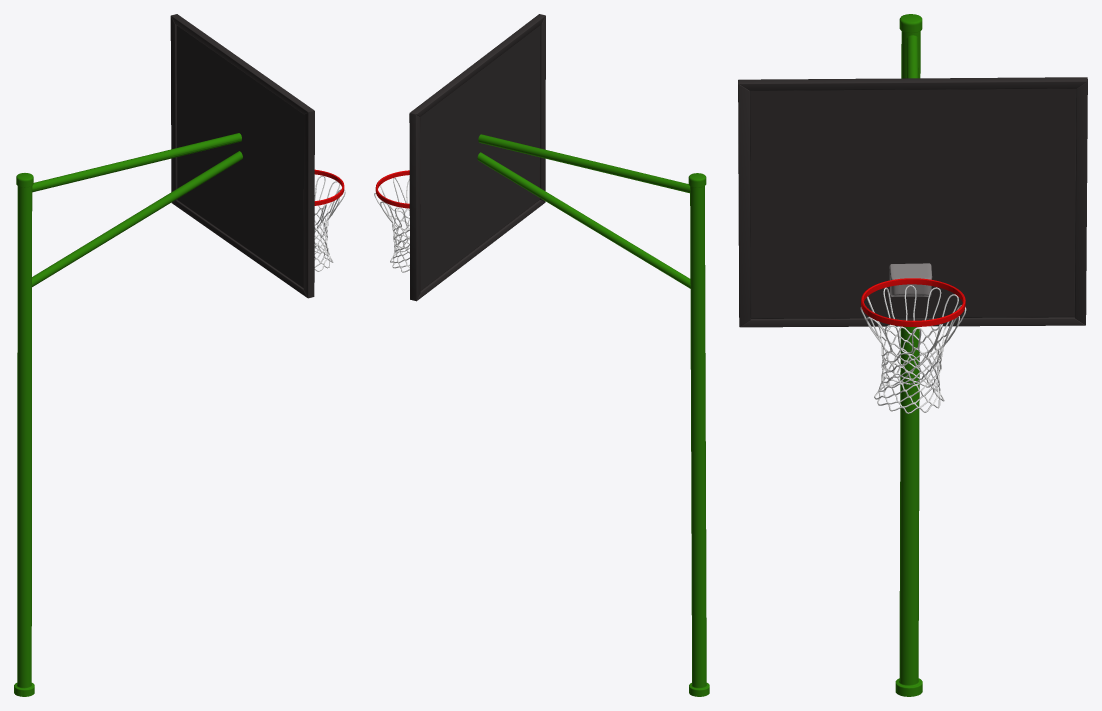
File: basket_net.fbx
3 renders of one model, left to right at view 1: azimuth 30°, elevation 25°; view 2: azimuth 150°, elevation 25°; view 3: azimuth 270°, elevation 25°, orthographic. The views are drawn at different scales.
Visible parts, largest first — view 1: polySurface313, polySurface324; view 2: polySurface313, polySurface324; view 3: polySurface313, polySurface324.
Part boxes in pixels (bbox=[...]): polySurface313: bbox=[14, 14, 314, 696]; polySurface324: bbox=[314, 169, 345, 271]; polySurface313: bbox=[409, 14, 709, 696]; polySurface324: bbox=[374, 170, 409, 272]; polySurface313: bbox=[738, 14, 1087, 696]; polySurface324: bbox=[860, 278, 966, 413].
Bounding box in the file's own units: 244 × 410 × 173.
